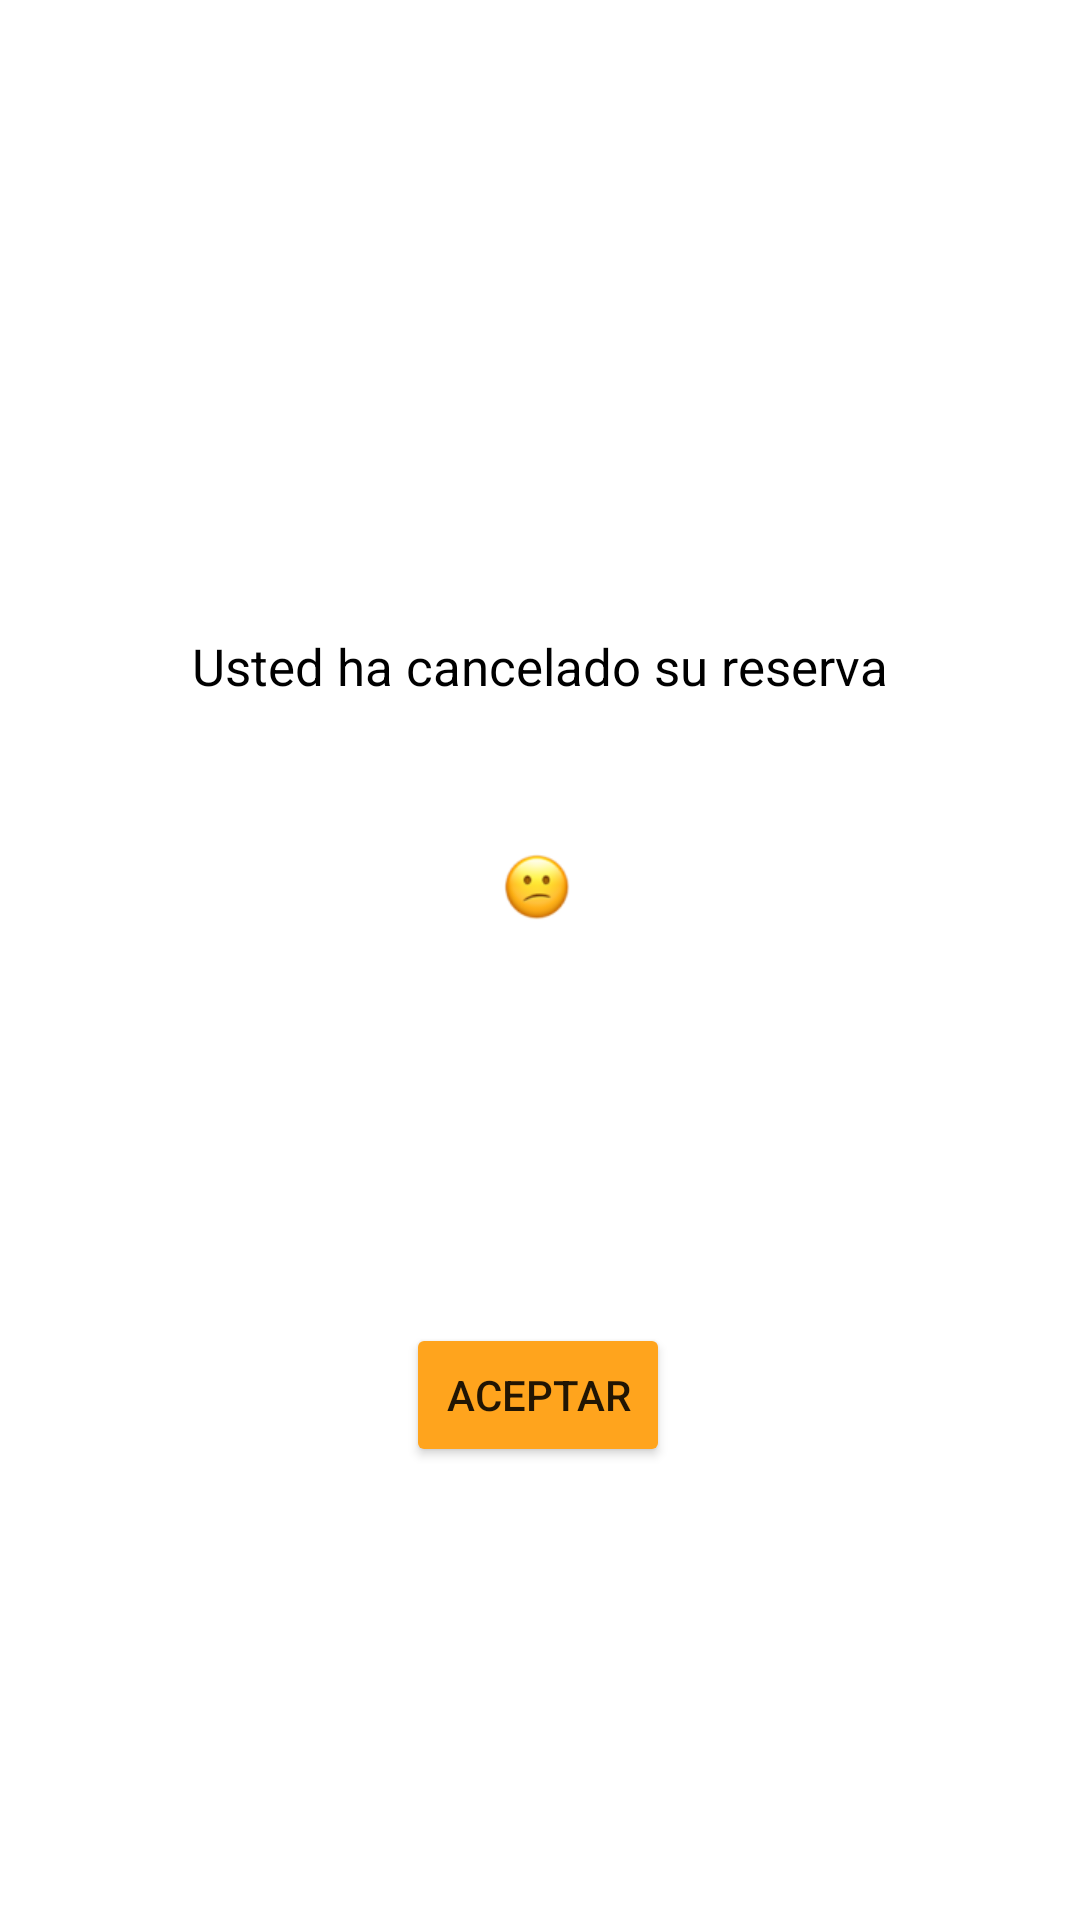

Icons on this 1080 x 1920 Android screen, each with the point to tap as [x,y]:
sad: [537,887]
